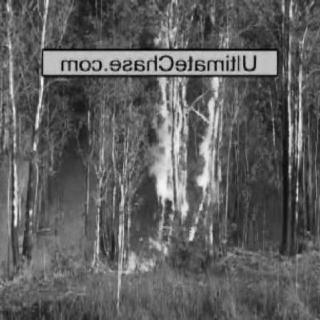Fire: (92, 9, 225, 280)
